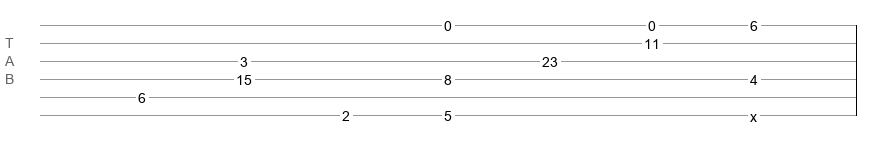0: (444, 18, 452, 28), (648, 18, 656, 28)
11: (644, 36, 660, 46)
15: (236, 72, 252, 82)
2: (342, 108, 350, 118)
23: (542, 54, 558, 64)
3: (240, 54, 248, 64)
4: (750, 72, 758, 82)
5: (444, 108, 452, 118)
6: (138, 90, 146, 100), (750, 18, 758, 28)
8: (444, 72, 452, 82)
x: (750, 109, 757, 117)
